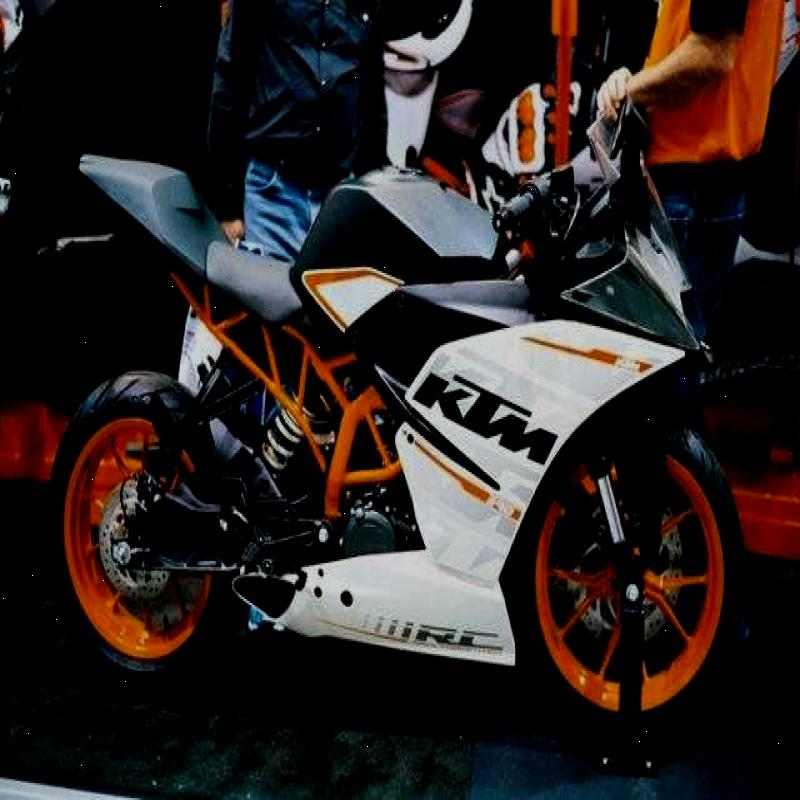bike: (59, 81, 744, 727)
